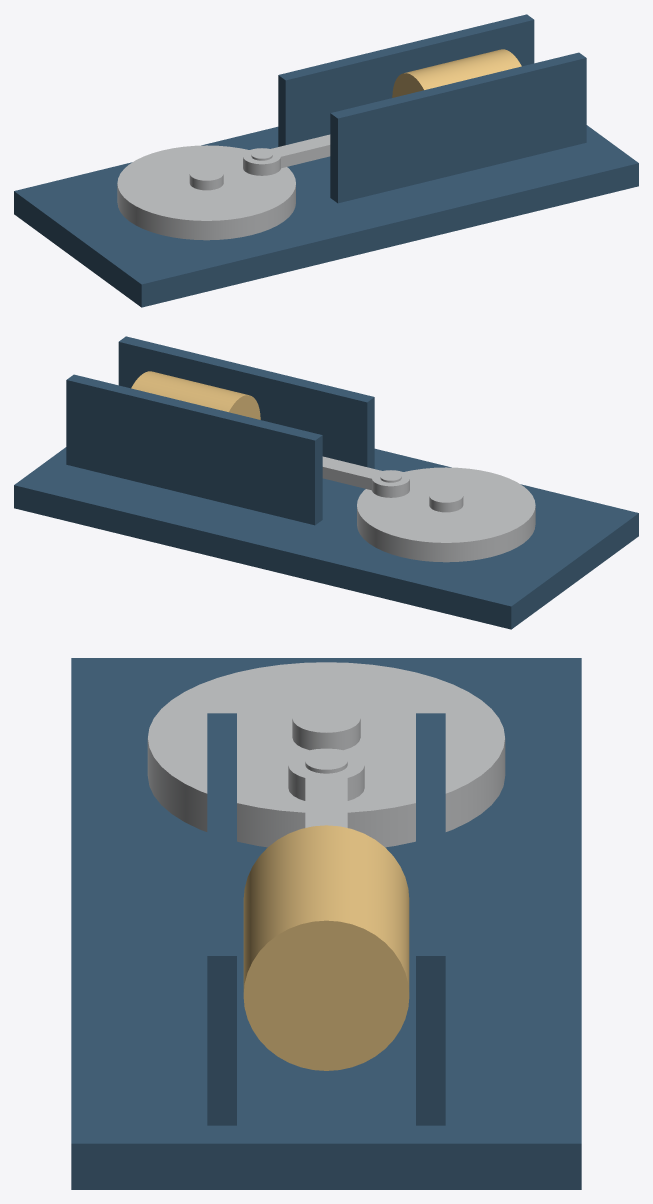
Rendered from crank.glb.
3 views of the same model, one above another, from view 1: azimuth 30°, elevation 25°; view 2: azimuth 150°, elevation 25°; view 3: azimuth 270°, elevation 25° (orthographic). The views are drawn at different scales.
Visible parts, largest first — view 1: frame, crank, piston, rod; view 2: frame, crank, piston, rod; view 3: frame, crank, piston, rod.
Part boxes in pixels (box(x1,y1,x2,y2)): frame: box(14, 14, 638, 307); crank: box(117, 145, 295, 240); piston: box(392, 49, 521, 97); rod: box(243, 134, 330, 175); frame: box(14, 336, 638, 629); crank: box(357, 467, 535, 562); piston: box(131, 371, 260, 419); rod: box(322, 456, 409, 497); frame: box(71, 658, 581, 1189); crank: box(147, 662, 505, 847); piston: box(243, 825, 409, 1070); rod: box(288, 748, 364, 827).
Size of the model in its own units: 0.27 by 0.056 by 0.12.
